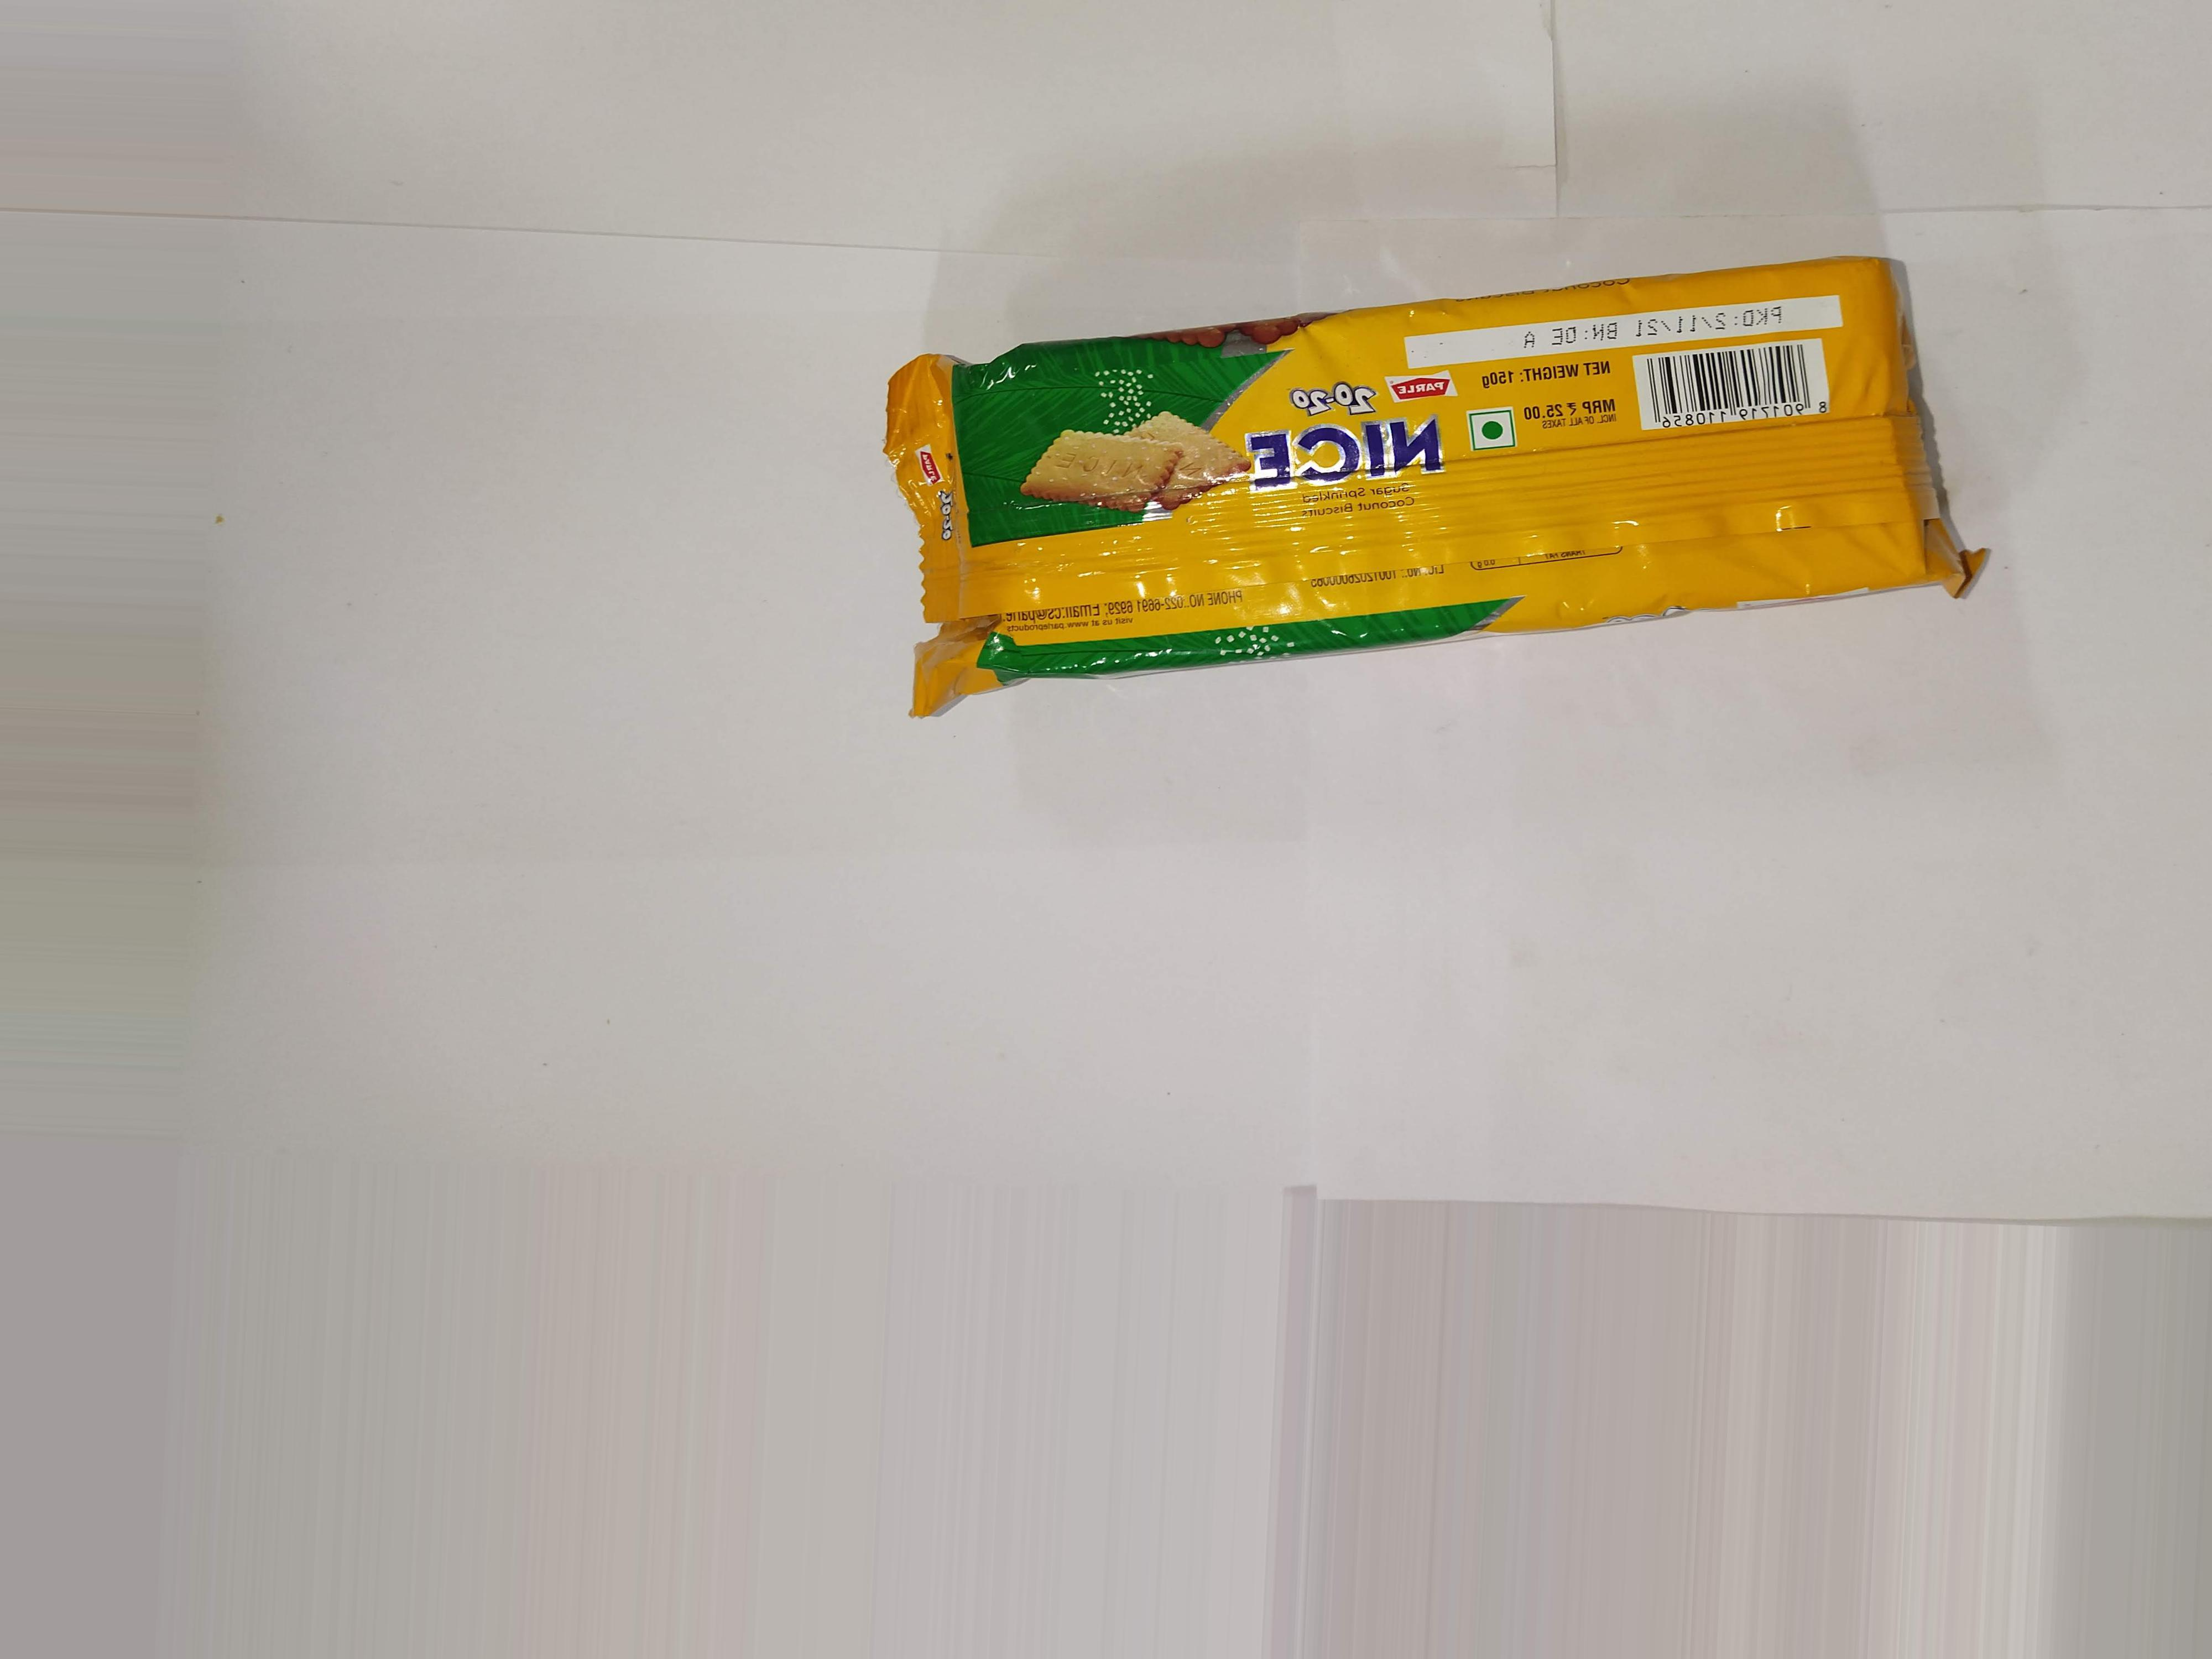Bar_code: (1623, 340, 1862, 448)
Item: (838, 251, 2022, 739)
